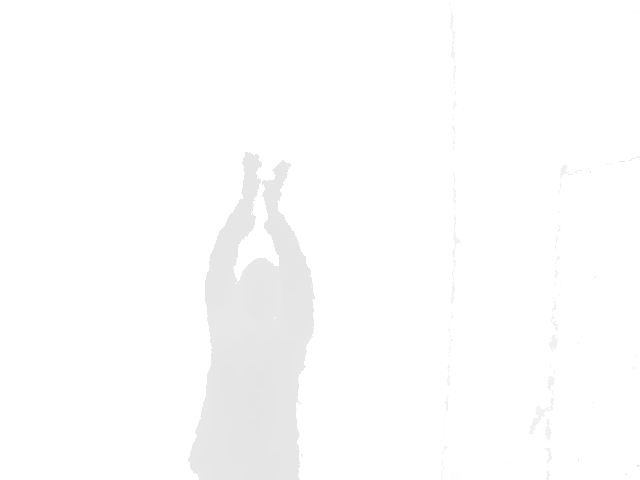hand: (262, 160, 292, 204), (241, 151, 262, 203)
head: (236, 256, 279, 308)
person: (187, 151, 316, 480)
